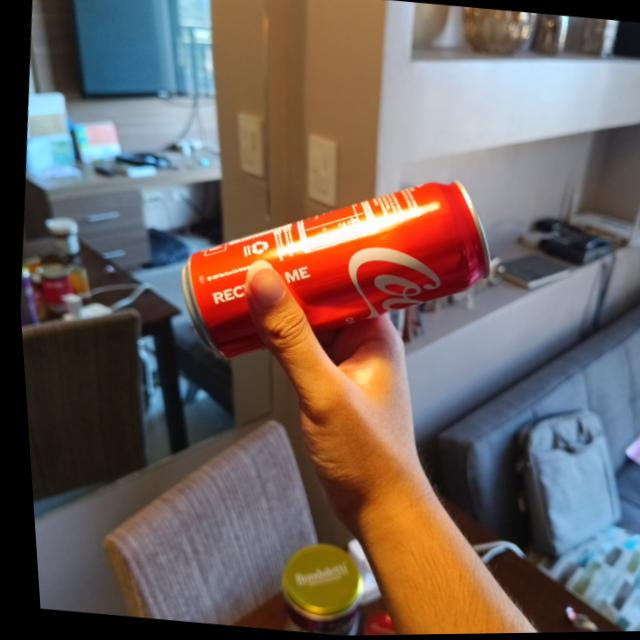coke: (160, 154, 501, 384)
